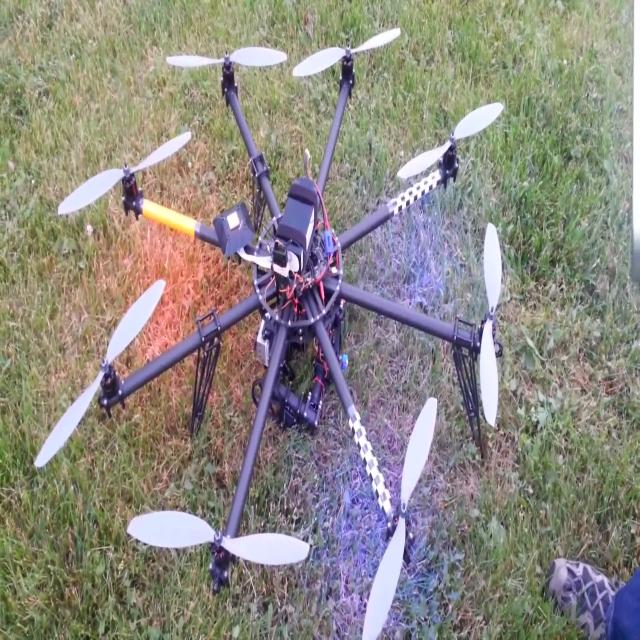drone: (36, 13, 512, 630)
